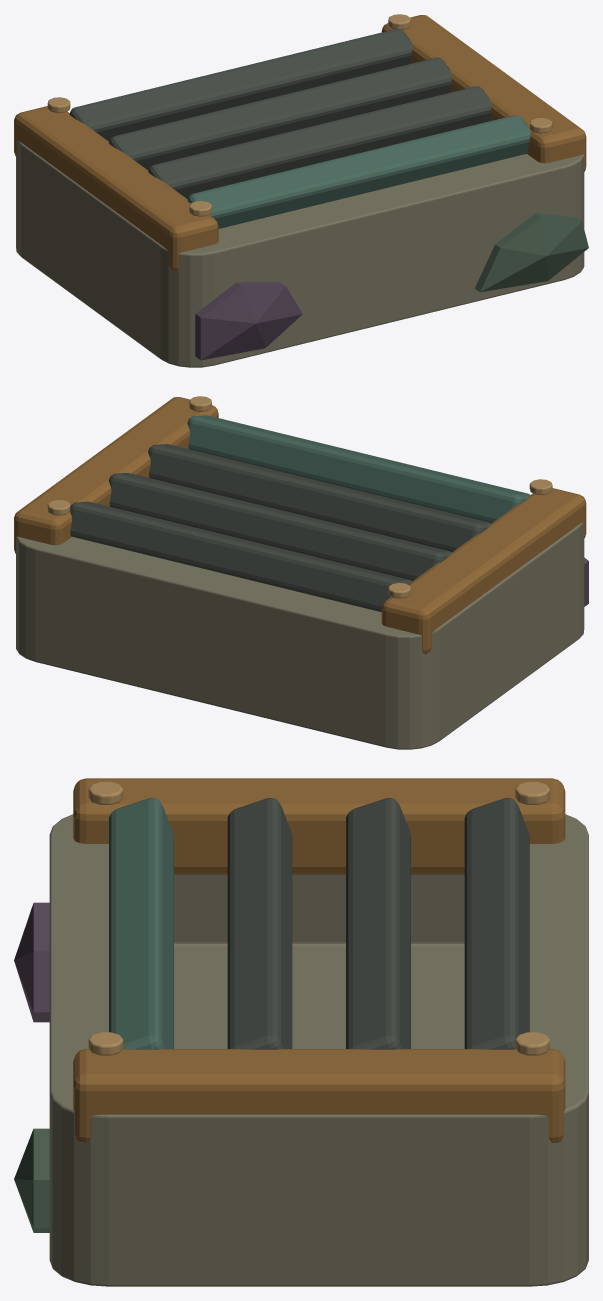
Rendered from SWAMP_GAS_VENT.hi.glb.
The picture shows the model from 3 angles, top to bottom: view 1: azimuth 30°, elevation 25°; view 2: azimuth 150°, elevation 25°; view 3: azimuth 270°, elevation 25°; orthographic projection. The views are drawn at different scales.
Visible parts, largest first — view 1: Body_Mesh; view 2: Body_Mesh; view 3: Body_Mesh.
Boxes of the visible parts, x1,y1,x2,y2 form: Body_Mesh: (14, 14, 588, 367); Body_Mesh: (14, 396, 588, 749); Body_Mesh: (14, 778, 588, 1286).
Bounding box in the file's own units: 1.23 × 0.41 × 0.97.
